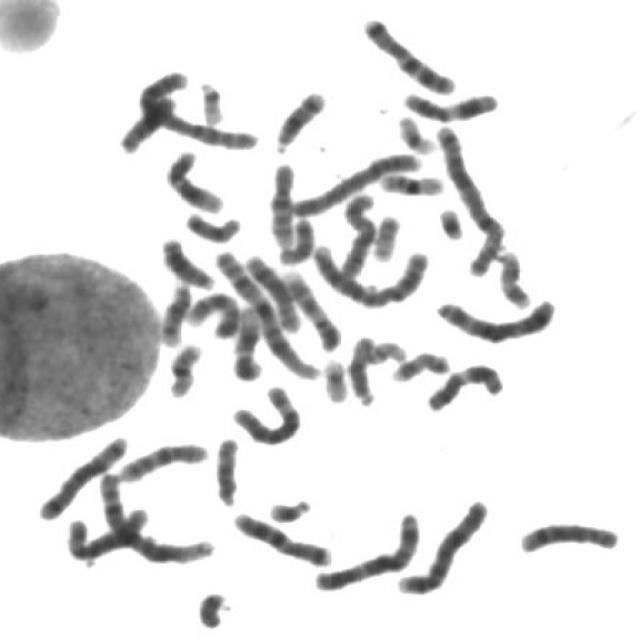A1: (206, 243, 321, 381), (90, 464, 217, 565)
A2: (130, 63, 261, 151), (303, 234, 431, 310)
A3: (306, 503, 424, 593), (429, 289, 560, 344)
B4: (388, 492, 492, 596), (283, 143, 424, 218)
B5: (30, 427, 130, 522), (431, 129, 506, 239)
C10: (110, 434, 210, 484), (260, 153, 300, 250)
C11: (419, 355, 507, 414), (394, 82, 502, 122)
C12: (157, 142, 227, 214), (230, 298, 271, 386)
C6: (58, 500, 153, 562), (223, 376, 304, 447)
C7: (354, 8, 460, 96), (226, 503, 334, 568)
C8: (236, 246, 303, 334), (511, 512, 623, 556)
C9: (274, 263, 344, 352), (178, 284, 242, 339)
D13: (112, 87, 182, 155), (153, 228, 217, 290)
D14: (267, 81, 329, 154), (152, 275, 194, 347)
D15: (340, 326, 379, 407), (207, 428, 243, 508)
E16: (160, 335, 204, 400), (372, 163, 448, 197)
E17: (489, 241, 534, 310), (384, 343, 452, 384)
E18: (177, 204, 244, 244), (270, 210, 317, 266)
F19: (390, 107, 439, 155), (314, 349, 350, 404)
F20: (463, 214, 504, 281), (364, 206, 404, 262)
G21: (260, 490, 314, 524), (430, 198, 469, 242)
G22: (190, 71, 227, 126), (359, 332, 410, 366)
X: (332, 184, 378, 280)
Y: (189, 584, 230, 630)
